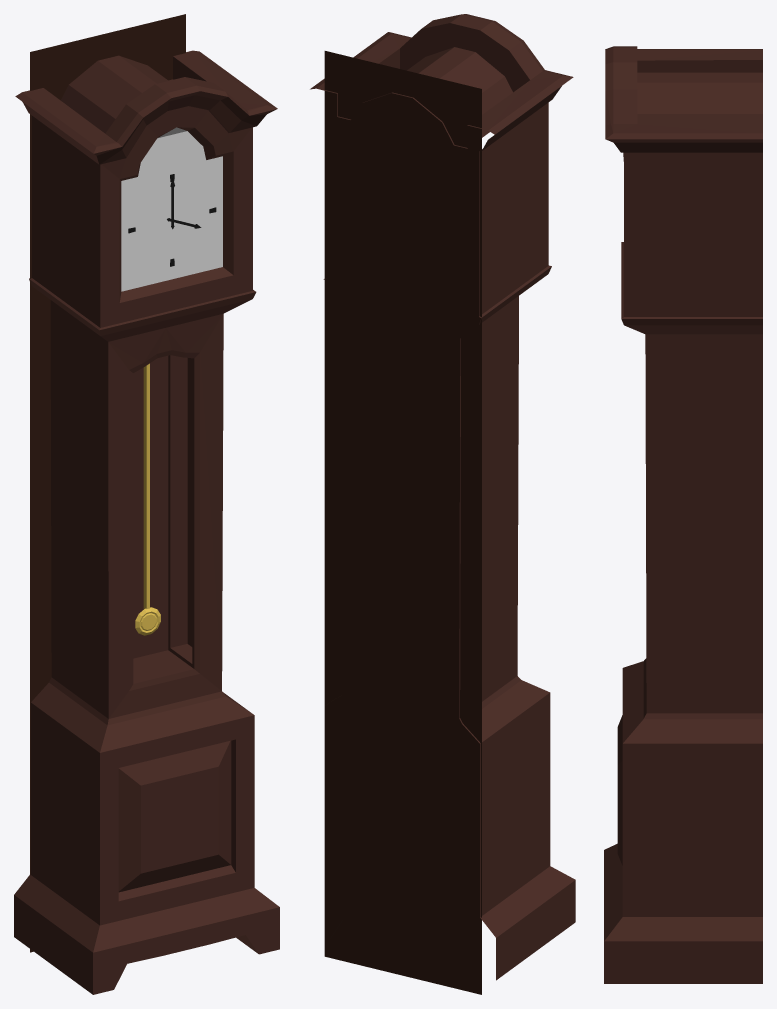
3 views of the same model, side by side, from view 1: azimuth 30°, elevation 25°; view 2: azimuth 150°, elevation 25°; view 3: azimuth 270°, elevation 25° (orthographic).
Parts seen in each view (by area): view 1: Grandfather Clock.001, Plane, Grandfather Clock.002; view 2: Plane, Grandfather Clock.001; view 3: Grandfather Clock.001.
Boxes of the visible parts, box(x1,y1,x2,y2) form: Grandfather Clock.001: box(14, 50, 279, 994); Plane: box(30, 14, 185, 952); Grandfather Clock.002: box(121, 127, 222, 291); Plane: box(324, 51, 481, 994); Grandfather Clock.001: box(310, 14, 575, 980); Grandfather Clock.001: box(604, 46, 762, 983).
Size of the model in its own units: 1.41 by 6.5 by 1.03.
Materials: 2 (1 with a texture image).
